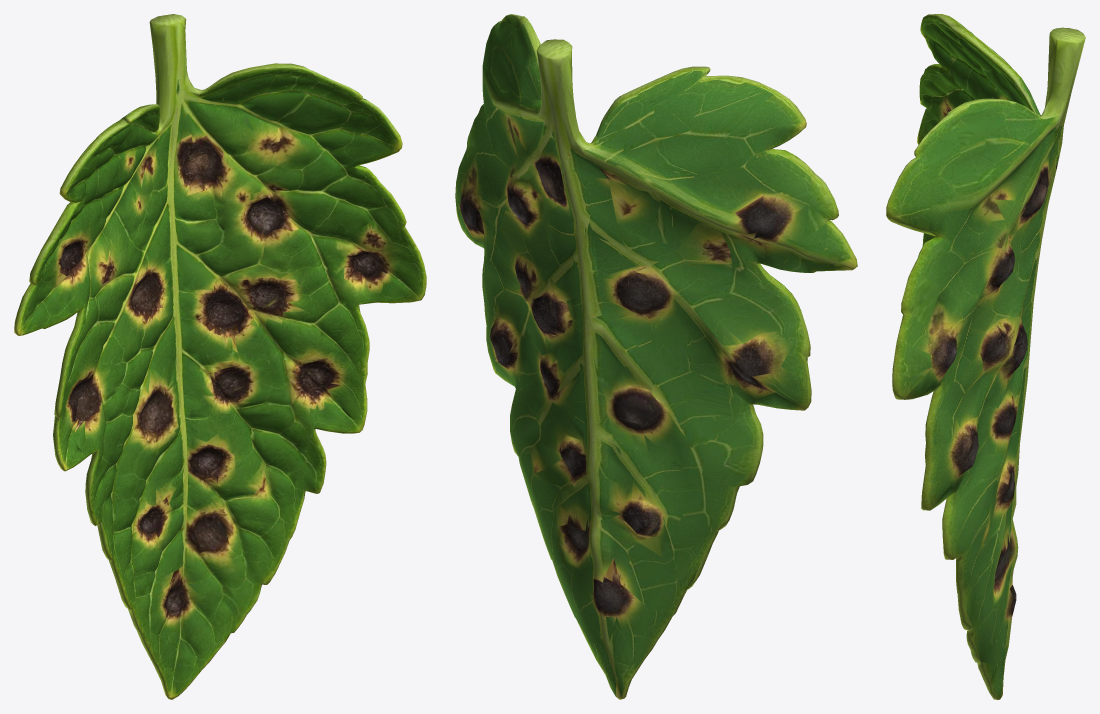
File: tomato_bacterial_spot.glb
3 views of the same model, side by side, from view 1: azimuth 30°, elevation 25°; view 2: azimuth 150°, elevation 25°; view 3: azimuth 270°, elevation 25° (orthographic). The views are drawn at different scales.
Visible parts, largest first — view 1: tomato_bacterial_spot; view 2: tomato_bacterial_spot; view 3: tomato_bacterial_spot.
Part boxes in pixels (<box>): tomato_bacterial_spot: <box>14,14,426,699</box>; tomato_bacterial_spot: <box>455,14,857,699</box>; tomato_bacterial_spot: <box>886,14,1085,699</box>.
Size of the model in its own units: 0.6413 by 0.9998 by 0.265.
1 material, 1 textured.
